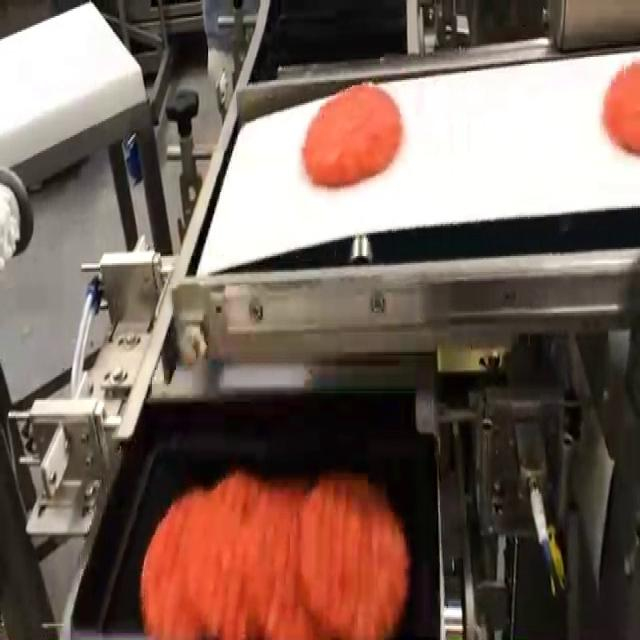4-hamburguer: (140, 471, 408, 638)
